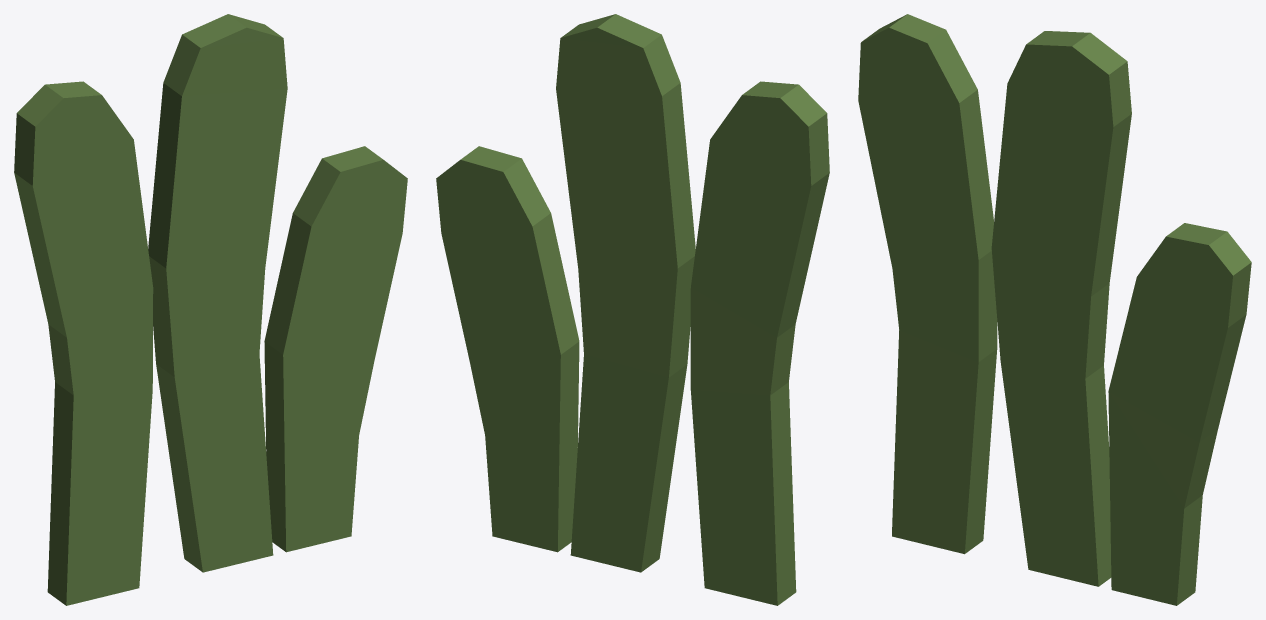
Rendered from Algae1.fbx.
The picture shows the model from 3 angles, left to right: view 1: azimuth 30°, elevation 25°; view 2: azimuth 150°, elevation 25°; view 3: azimuth 330°, elevation 25°; orthographic projection.
Parts seen in each view (by area): view 1: Algae1; view 2: Algae1; view 3: Algae1.
Part boxes in pixels (bbox=[...]): Algae1: bbox=[14, 14, 407, 605]; Algae1: bbox=[436, 14, 829, 605]; Algae1: bbox=[858, 14, 1251, 605].
Size of the model in its own units: 0.4524 by 0.6157 by 0.0397.
